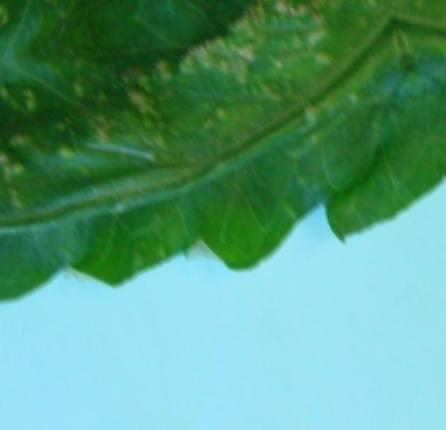Tomato mold leaf: (0, 0, 446, 393)
